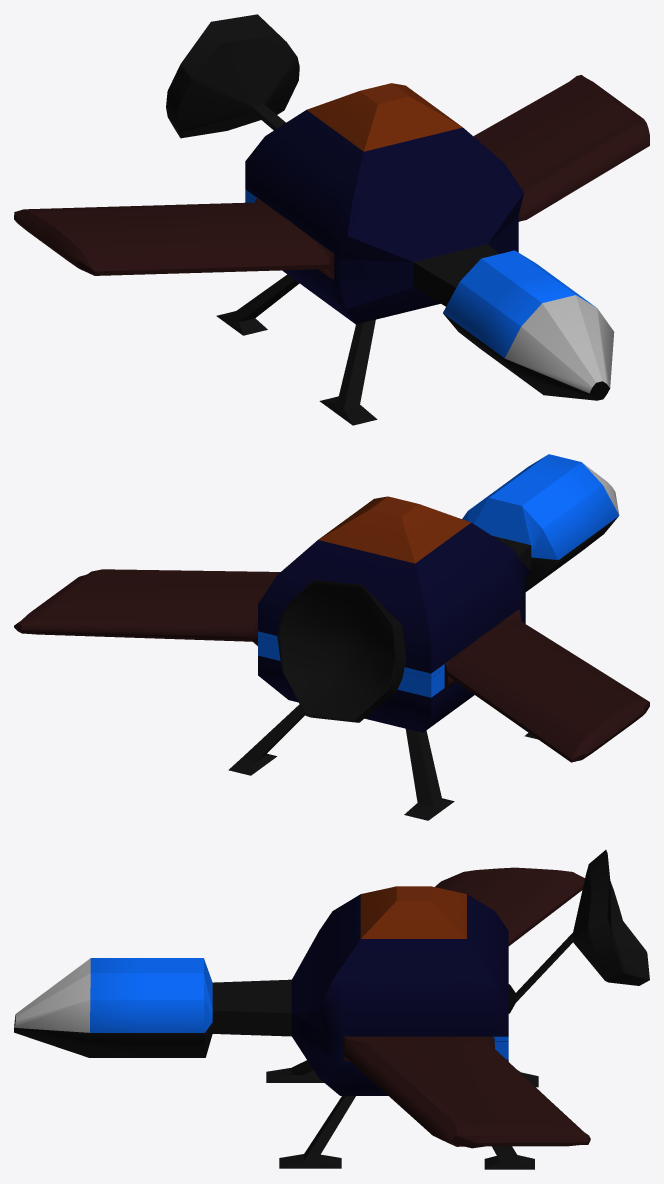
The model's file is SpaceShipV1.obj.
3 renders of one model, top to bottom at view 1: azimuth 30°, elevation 25°; view 2: azimuth 150°, elevation 25°; view 3: azimuth 270°, elevation 25°, orthographic. The views are drawn at different scales.
Parts seen in each view (by area): view 1: pCube1; view 2: pCube1; view 3: pCube1.
Part boxes in pixels (x1,y1,x2,y2): pCube1: (14,14,649,425); pCube1: (14,454,649,820); pCube1: (14,850,649,1169).
Bounding box in the file's own units: 8.65 × 3.71 × 8.89.
